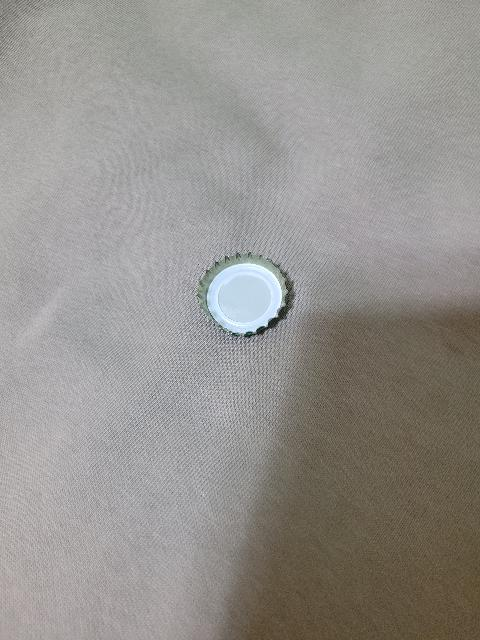Metal: (198, 252, 292, 348)
